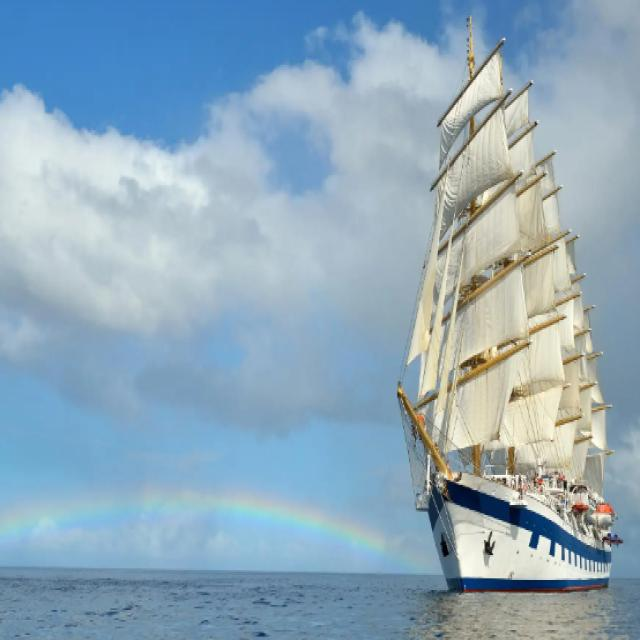houseboat: (406, 48, 630, 580)
